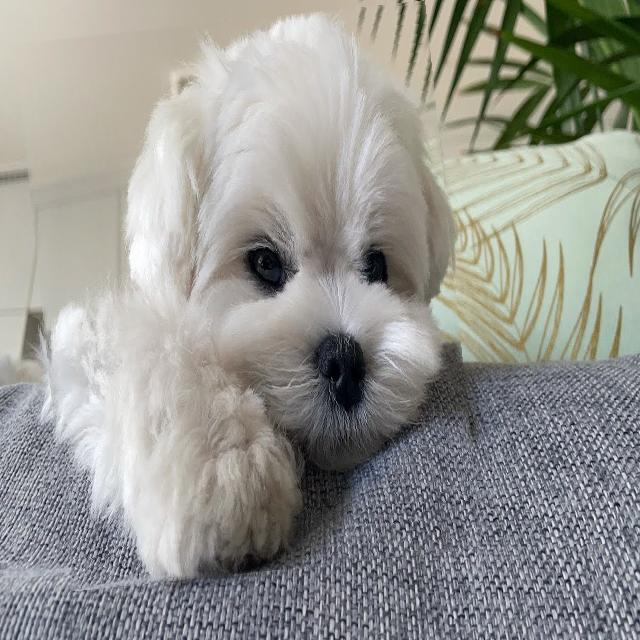maltese: (50, 11, 450, 579)
